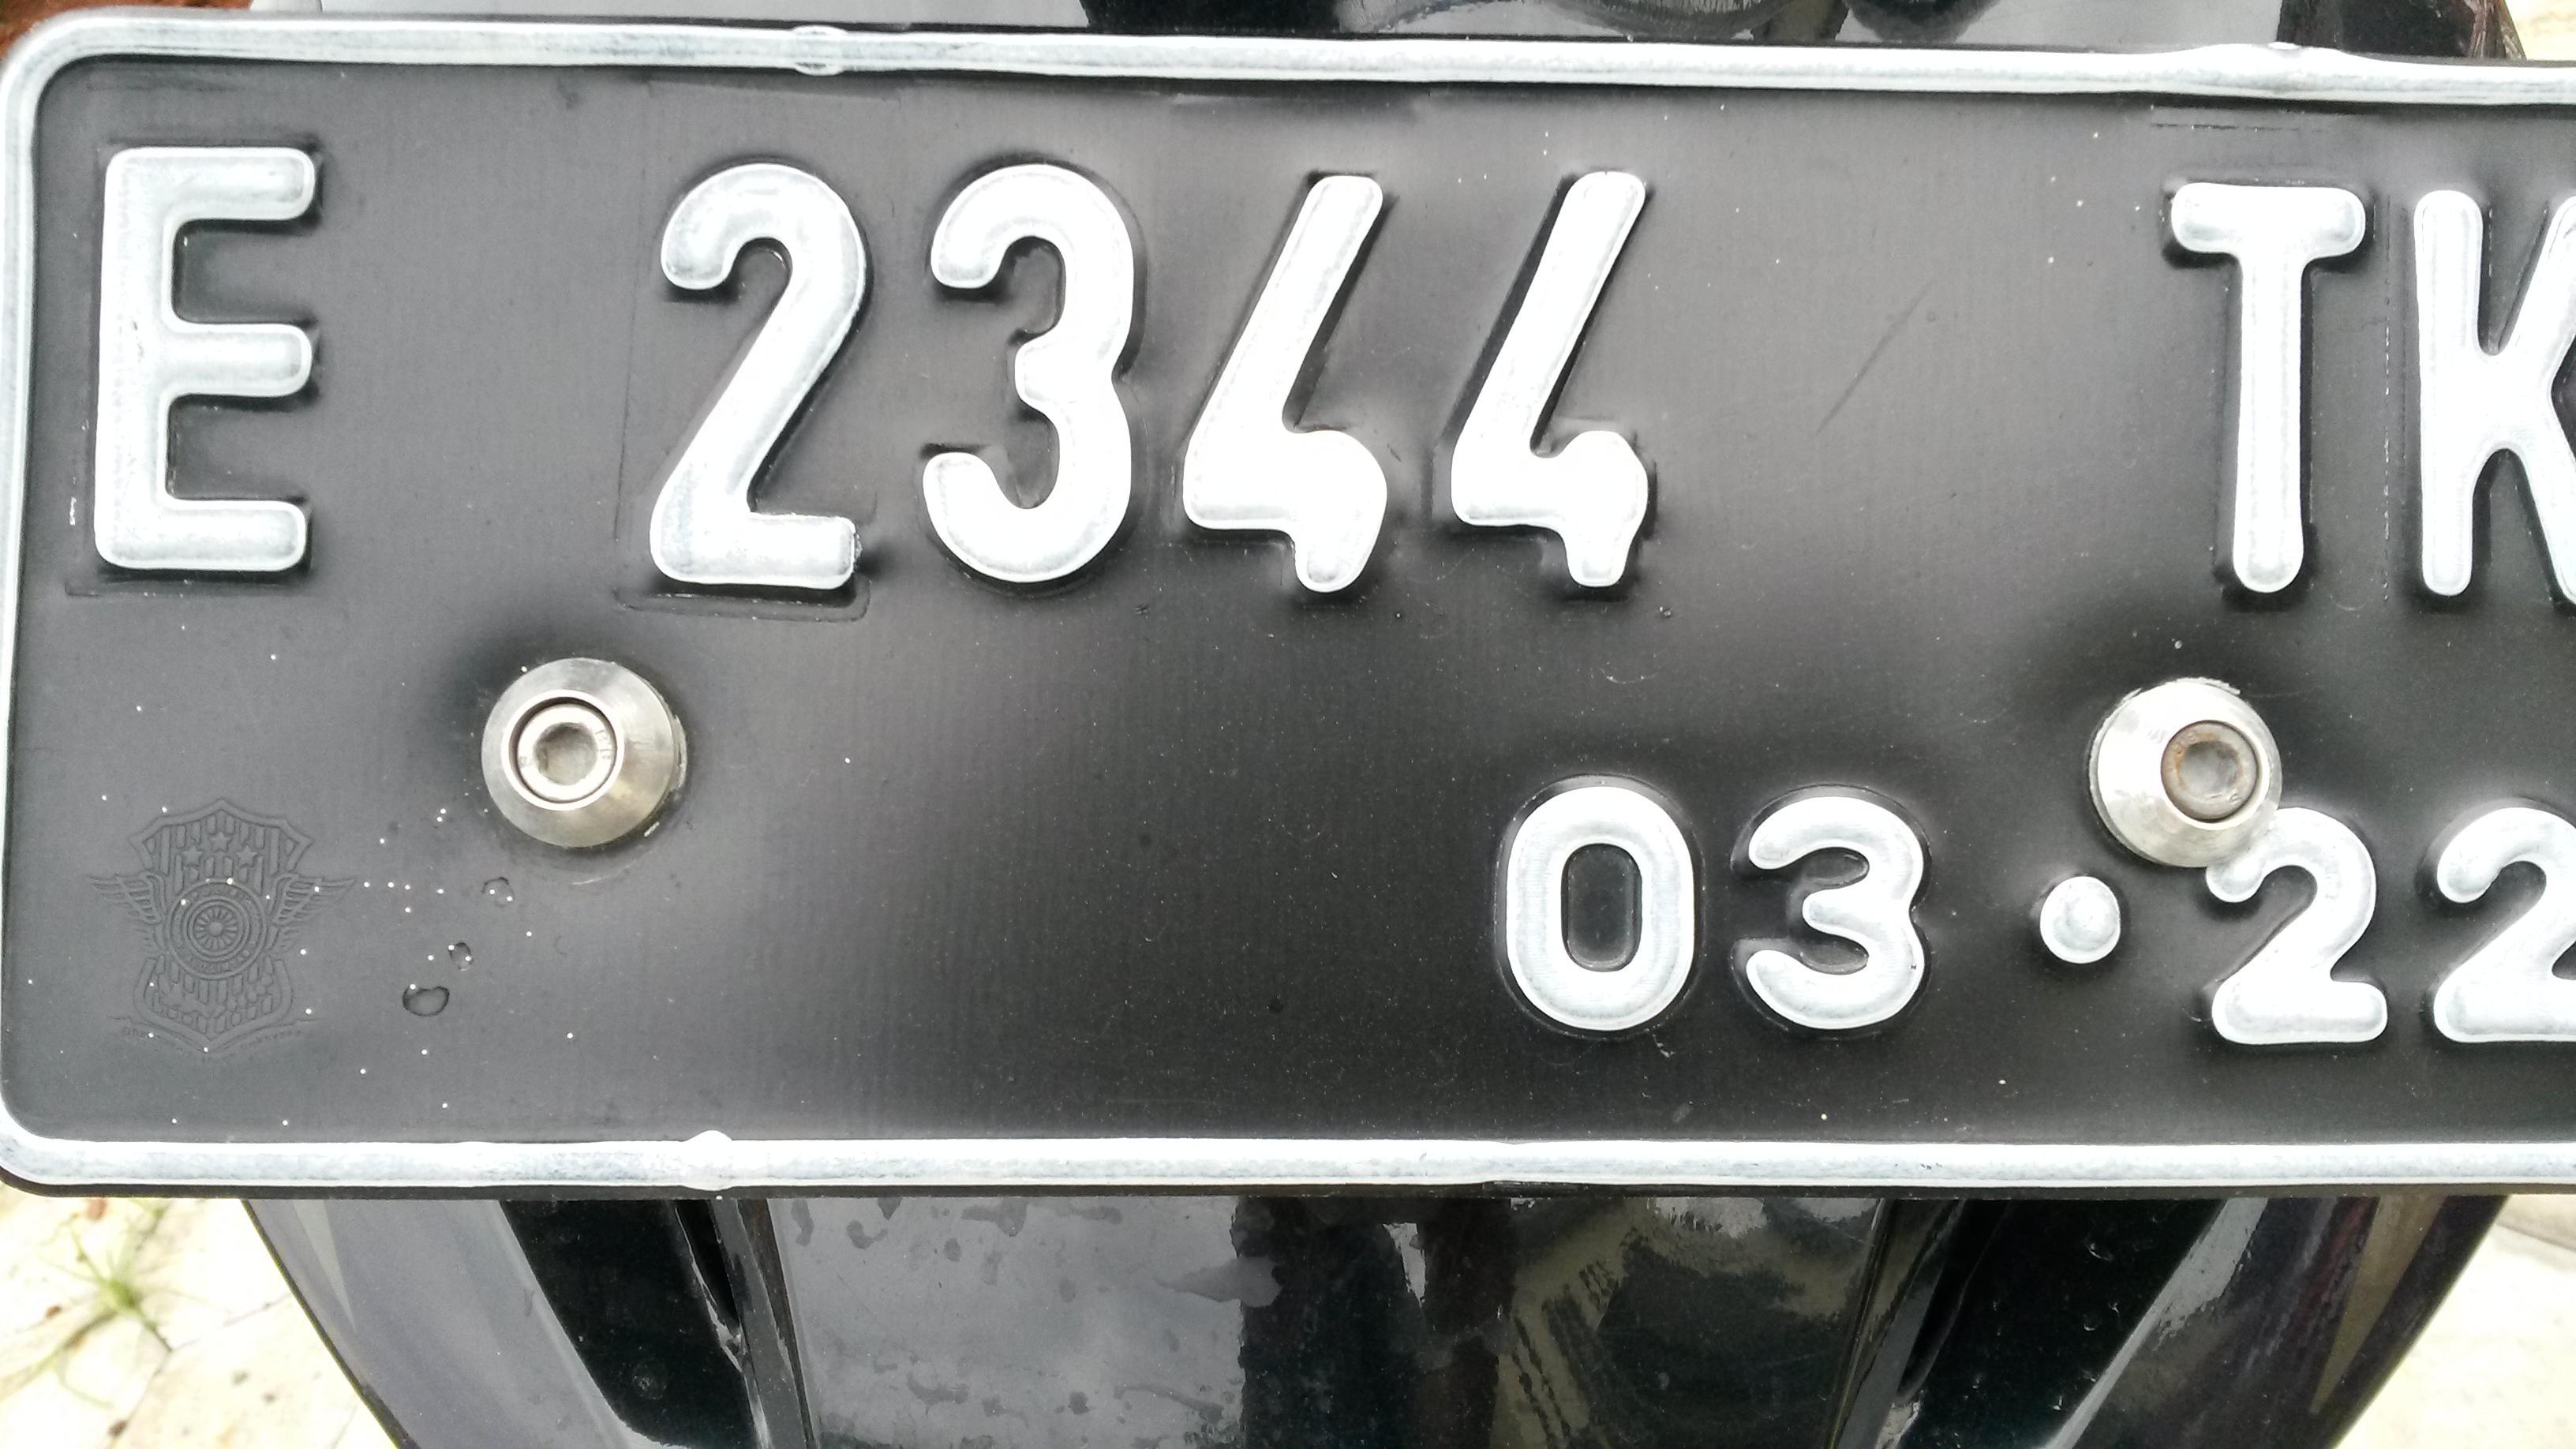clone-license-plate: (8, 13, 2575, 1190)
